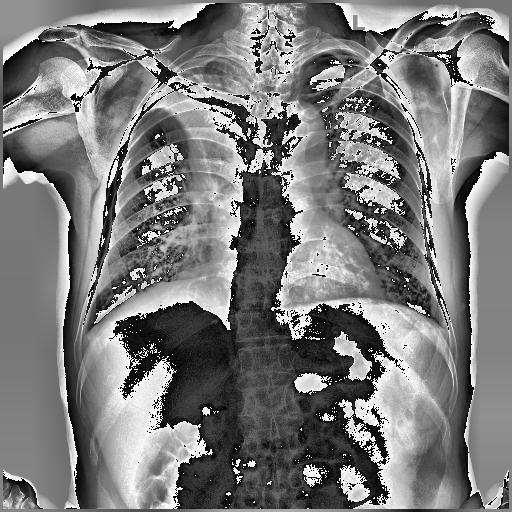0- Aortic enlargement: (272, 102, 326, 174), (278, 96, 330, 162), (275, 102, 325, 156)
1- Atelectasis: (145, 48, 251, 197), (139, 58, 252, 196), (144, 58, 245, 212)
10- Pleural effusion: (436, 312, 449, 338), (75, 328, 96, 340)
11- Pleural thickening: (436, 312, 449, 338), (75, 328, 96, 340)
13- Pulmonary fibrosis: (338, 68, 388, 135), (343, 76, 383, 142)
4- Consolidation: (145, 48, 251, 197)
7- Lung Opacity: (145, 48, 251, 197), (139, 58, 252, 196)
